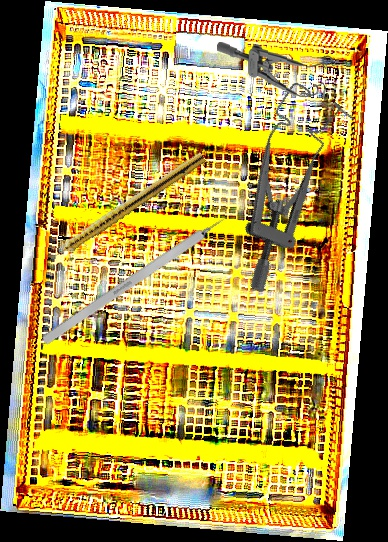Handpiece: (44, 148, 207, 266)
Hook Surgical: (40, 203, 244, 346)
Speculum: (188, 76, 371, 296), (214, 41, 340, 101)
